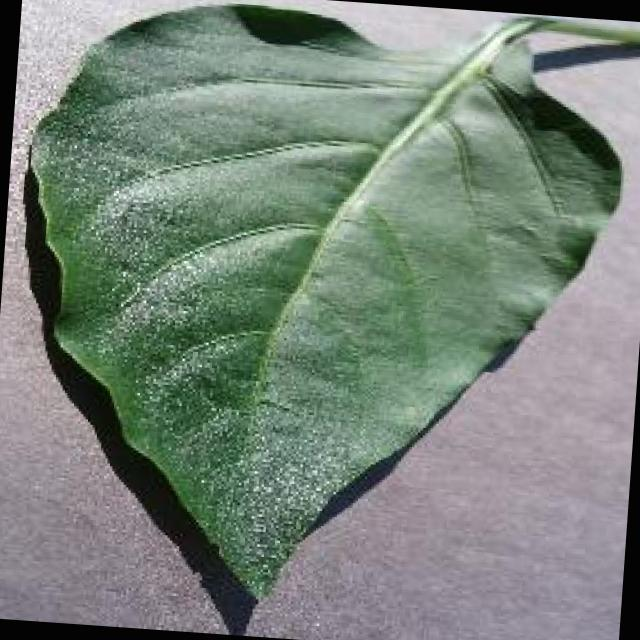healthy: (35, 7, 617, 596)
